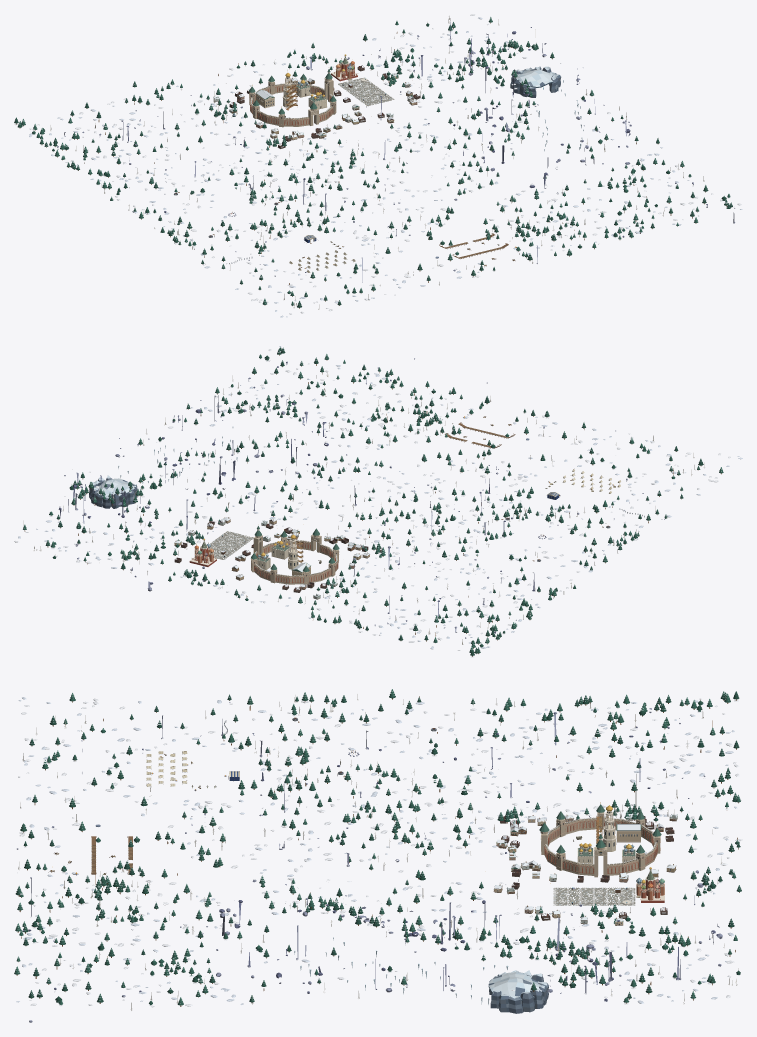
Rendered from world_winter.visual.glb.
The picture shows the model from 3 angles, top to bottom: view 1: azimuth 30°, elevation 25°; view 2: azimuth 150°, elevation 25°; view 3: azimuth 270°, elevation 25°; orthographic projection. The views are drawn at different scales.
Visible parts, largest first — view 1: Trees_Leaves, Bushes, Kremlin_WinterPlaster, Rocks, Trees_Trunks, Red_Square_WinterPlaster, Kremlin_WinterStone, Cavern_FracturedStrata, Cavern_SnowShelves; view 2: Trees_Leaves, Bushes, Kremlin_WinterPlaster, Rocks, Trees_Trunks, Kremlin_WinterStone, Red_Square_WinterPlaster, Cavern_FracturedStrata; view 3: Trees_Leaves, Bushes, Kremlin_WinterPlaster, Rocks, Trees_Trunks, Red_Square_WinterPlaster, Cavern_FracturedStrata, Kremlin_WinterStone, Cavern_SnowShelves, Moscow_WinterSnow, Moscow_WinterTimber, Kremlin_WinterCopper (+2 smaller).
Part boxes in pixels (bbox=[...]): Trees_Leaves: bbox=[14, 17, 732, 307]; Bushes: bbox=[14, 14, 742, 317]; Kremlin_WinterPlaster: bbox=[249, 77, 336, 127]; Rocks: bbox=[57, 22, 735, 282]; Trees_Trunks: bbox=[16, 16, 726, 309]; Red_Square_WinterPlaster: bbox=[336, 56, 394, 106]; Kremlin_WinterStone: bbox=[249, 72, 336, 123]; Cavern_FracturedStrata: bbox=[510, 67, 561, 97]; Cavern_SnowShelves: bbox=[514, 66, 558, 87]; Trees_Leaves: bbox=[23, 347, 723, 655]; Bushes: bbox=[14, 346, 742, 657]; Kremlin_WinterPlaster: bbox=[251, 534, 339, 584]; Rocks: bbox=[58, 358, 665, 638]; Trees_Trunks: bbox=[23, 355, 721, 656]; Kremlin_WinterStone: bbox=[251, 529, 339, 575]; Red_Square_WinterPlaster: bbox=[195, 531, 253, 559]; Cavern_FracturedStrata: bbox=[89, 478, 137, 508]; Trees_Leaves: bbox=[14, 689, 741, 1005]; Bushes: bbox=[15, 690, 742, 1007]; Kremlin_WinterPlaster: bbox=[540, 811, 660, 877]; Rocks: bbox=[17, 702, 722, 1022]; Trees_Trunks: bbox=[16, 694, 739, 1010]; Red_Square_WinterPlaster: bbox=[553, 883, 664, 905]; Cavern_FracturedStrata: bbox=[488, 974, 548, 1013]; Kremlin_WinterStone: bbox=[540, 811, 660, 875]; Cavern_SnowShelves: bbox=[489, 970, 546, 998]; Moscow_WinterSnow: bbox=[494, 814, 677, 921]; Moscow_WinterTimber: bbox=[493, 814, 677, 925]; Kremlin_WinterCopper: bbox=[539, 804, 661, 856].
Bounding box in the file's own units: 671 × 81.49 × 673.
